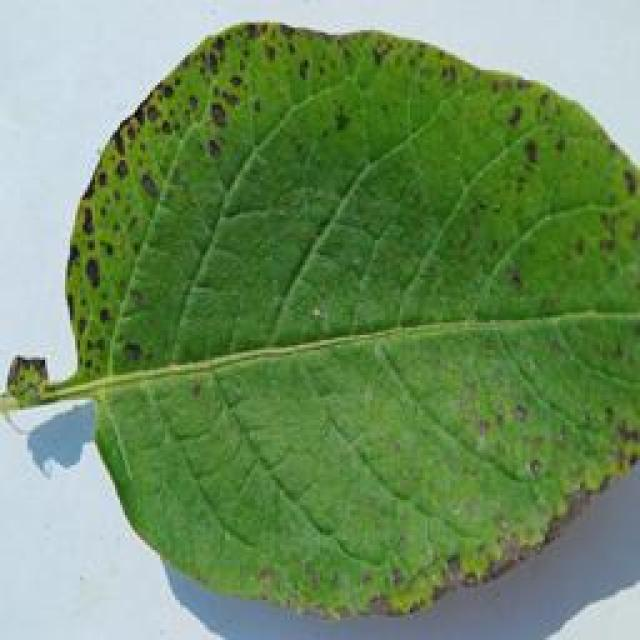Potato_Early_Blight: (60, 14, 640, 620)
